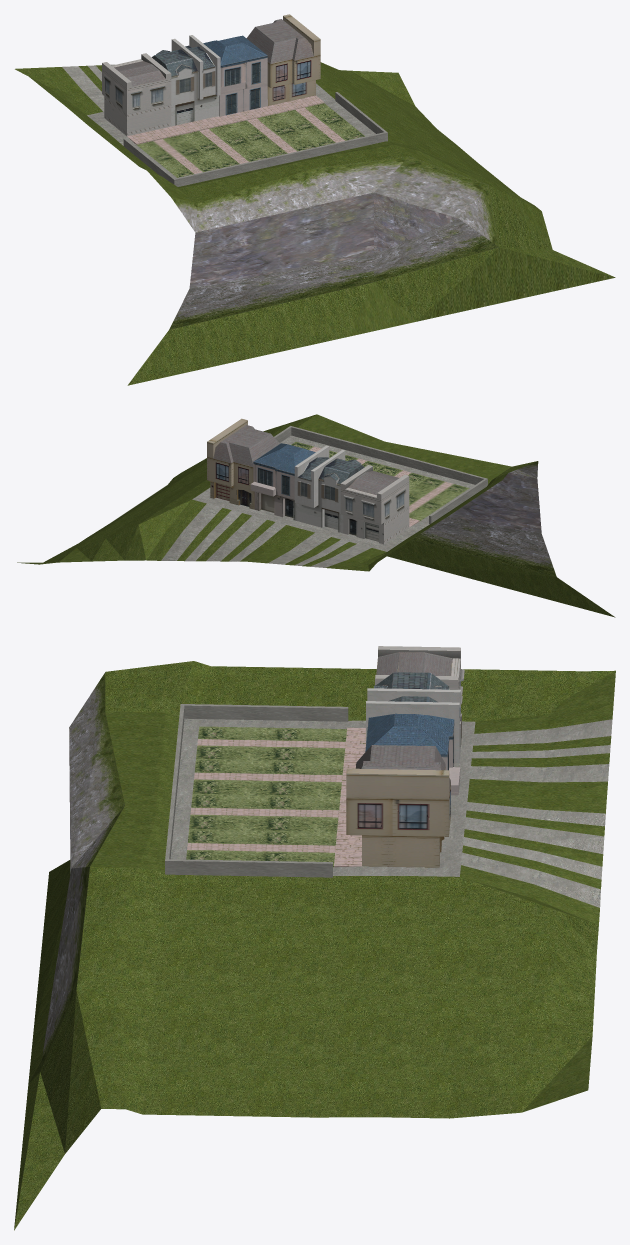
File: sfw_boxwest11.obj
3 views of the same model, one above another, from view 1: azimuth 30°, elevation 25°; view 2: azimuth 150°, elevation 25°; view 3: azimuth 270°, elevation 25° (orthographic). The views are drawn at different scales.
Visible parts, largest first — view 1: sfw_boxwest11; view 2: sfw_boxwest11; view 3: sfw_boxwest11.
Boxes of the visible parts, x1,y1,x2,y2 form: sfw_boxwest11: (15, 14, 615, 385); sfw_boxwest11: (17, 414, 615, 617); sfw_boxwest11: (14, 646, 615, 1230).
Bounding box in the file's own units: 73.82 × 30.37 × 52.33.
Materials: 15 (14 with a texture image).
